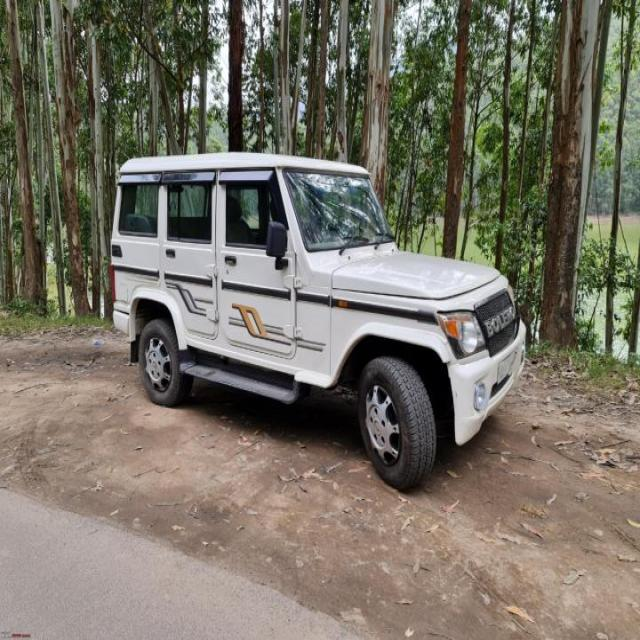light_vehicle: (107, 148, 532, 476)
